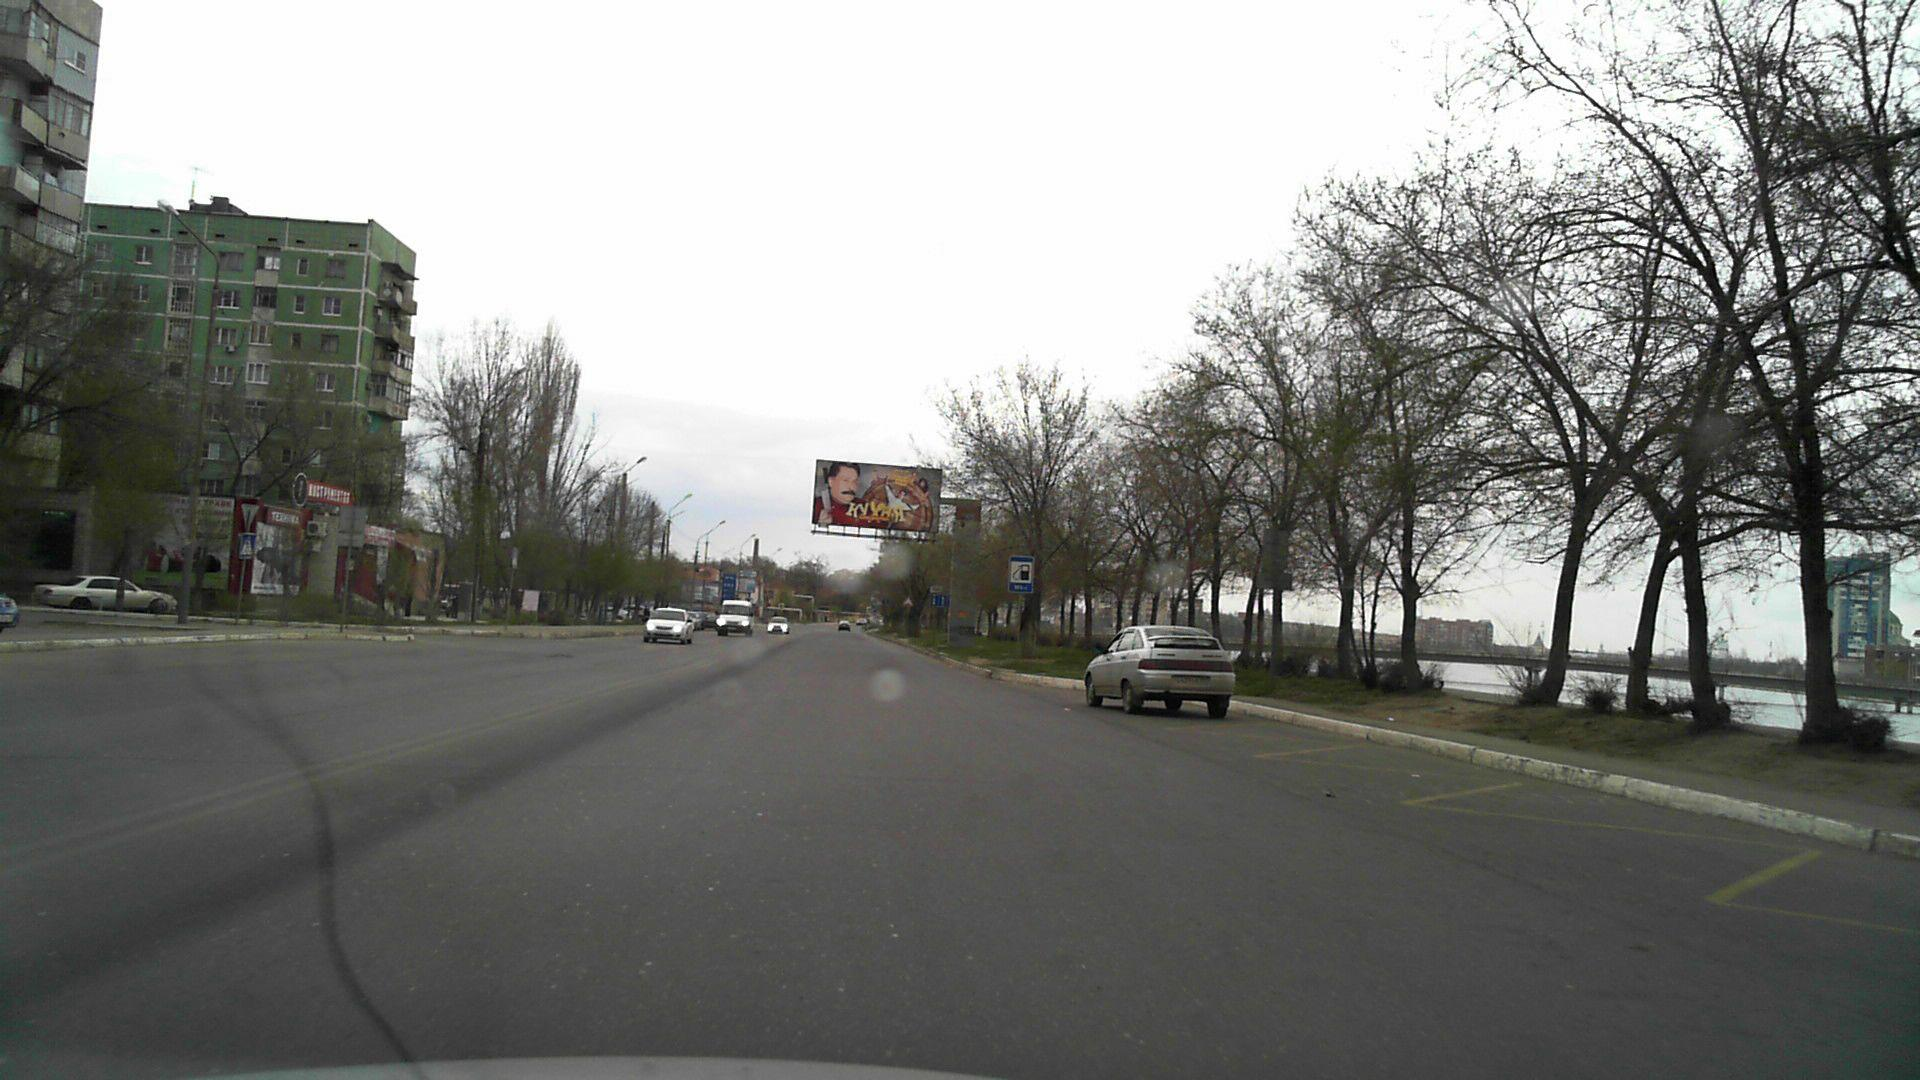7_3: (1007, 556, 1035, 593)
